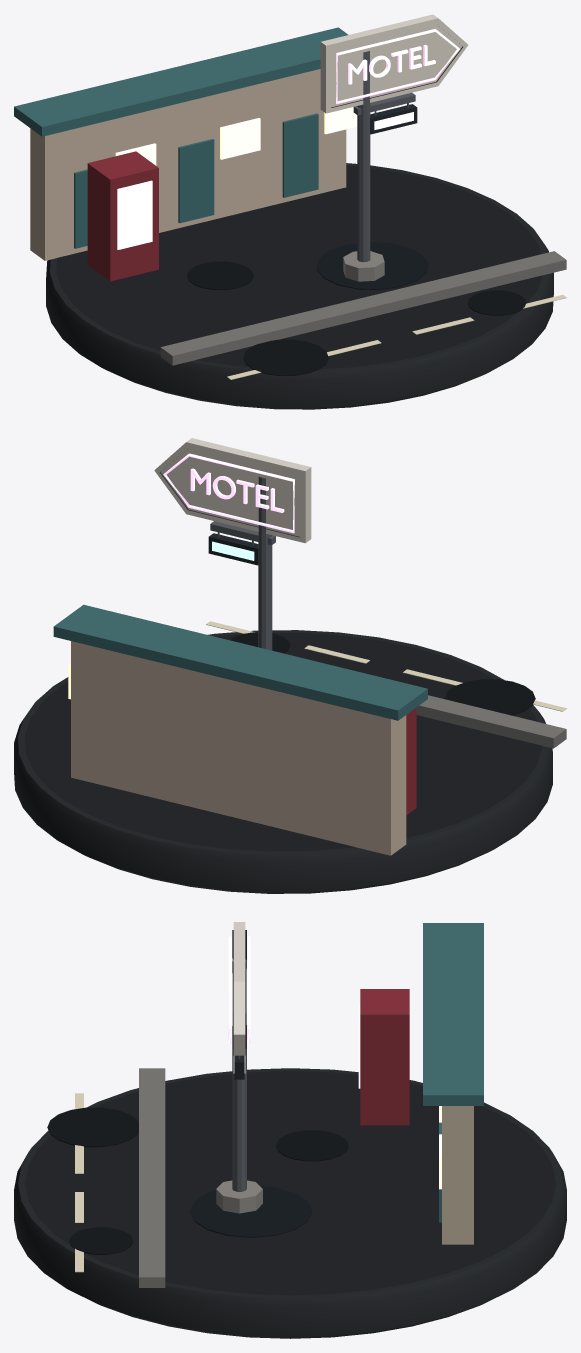
3 renders of one model, top to bottom at view 1: azimuth 30°, elevation 25°; view 2: azimuth 150°, elevation 25°; view 3: azimuth 270°, elevation 25°, orthographic. The views are drawn at different scales.
Parts seen in each view (by area): view 1: PlinthTop, Wall, Plinth, Doors, Kerb, BoardEdge, Vending, Puddles, Puddle, Post, Windows, VendingFront (+5 smaller); view 2: Wall, PlinthTop, Plinth, Doors, BoardEdge, Kerb, Puddles, Post, Text.001, Vending, NeonOutline, Markings (+1 smaller); view 3: PlinthTop, Plinth, Doors, Vending, Puddles, Kerb, Wall, Puddle, Post, BoardEdge, Foot, Markings (+1 smaller).
Boxes of the visible parts, box(x1,y1,x2,y2) form: PlinthTop: box(56, 165, 542, 369); Wall: box(30, 69, 346, 260); Plinth: box(46, 163, 553, 409); Doors: box(14, 27, 348, 248); Kerb: box(160, 251, 566, 365); BoardEdge: box(320, 14, 468, 113); Vending: box(87, 151, 158, 281); Puddles: box(187, 261, 526, 375); Puddle: box(316, 242, 428, 289); Post: box(353, 51, 415, 262); Windows: box(115, 107, 357, 165); VendingFront: box(117, 180, 152, 249); Wall: box(71, 641, 406, 855); PlinthTop: box(24, 632, 542, 851); Plinth: box(14, 630, 552, 893); Doors: box(53, 604, 427, 720); BoardEdge: box(154, 438, 311, 543); Kerb: box(416, 695, 566, 748); Puddles: box(230, 632, 535, 715); Post: box(210, 476, 275, 650); Text.001: box(190, 468, 284, 512); Vending: box(406, 707, 416, 815); NeonOutline: box(163, 453, 294, 533); Markings: box(206, 621, 566, 711); PlinthTop: box(25, 1071, 555, 1295); Plinth: box(14, 1068, 566, 1338); Doors: box(423, 923, 483, 1222); Vending: box(360, 989, 409, 1125); Puddles: box(47, 1107, 348, 1254); Kerb: box(139, 1068, 165, 1287); Wall: box(442, 1106, 473, 1244); Puddle: box(190, 1186, 312, 1237); Post: box(232, 959, 246, 1191); BoardEdge: box(233, 922, 245, 1055); Foot: box(216, 1180, 262, 1213); Markings: box(75, 1093, 83, 1272).
Size of the model in its own units: 3.8 by 2.3 by 3.8.
